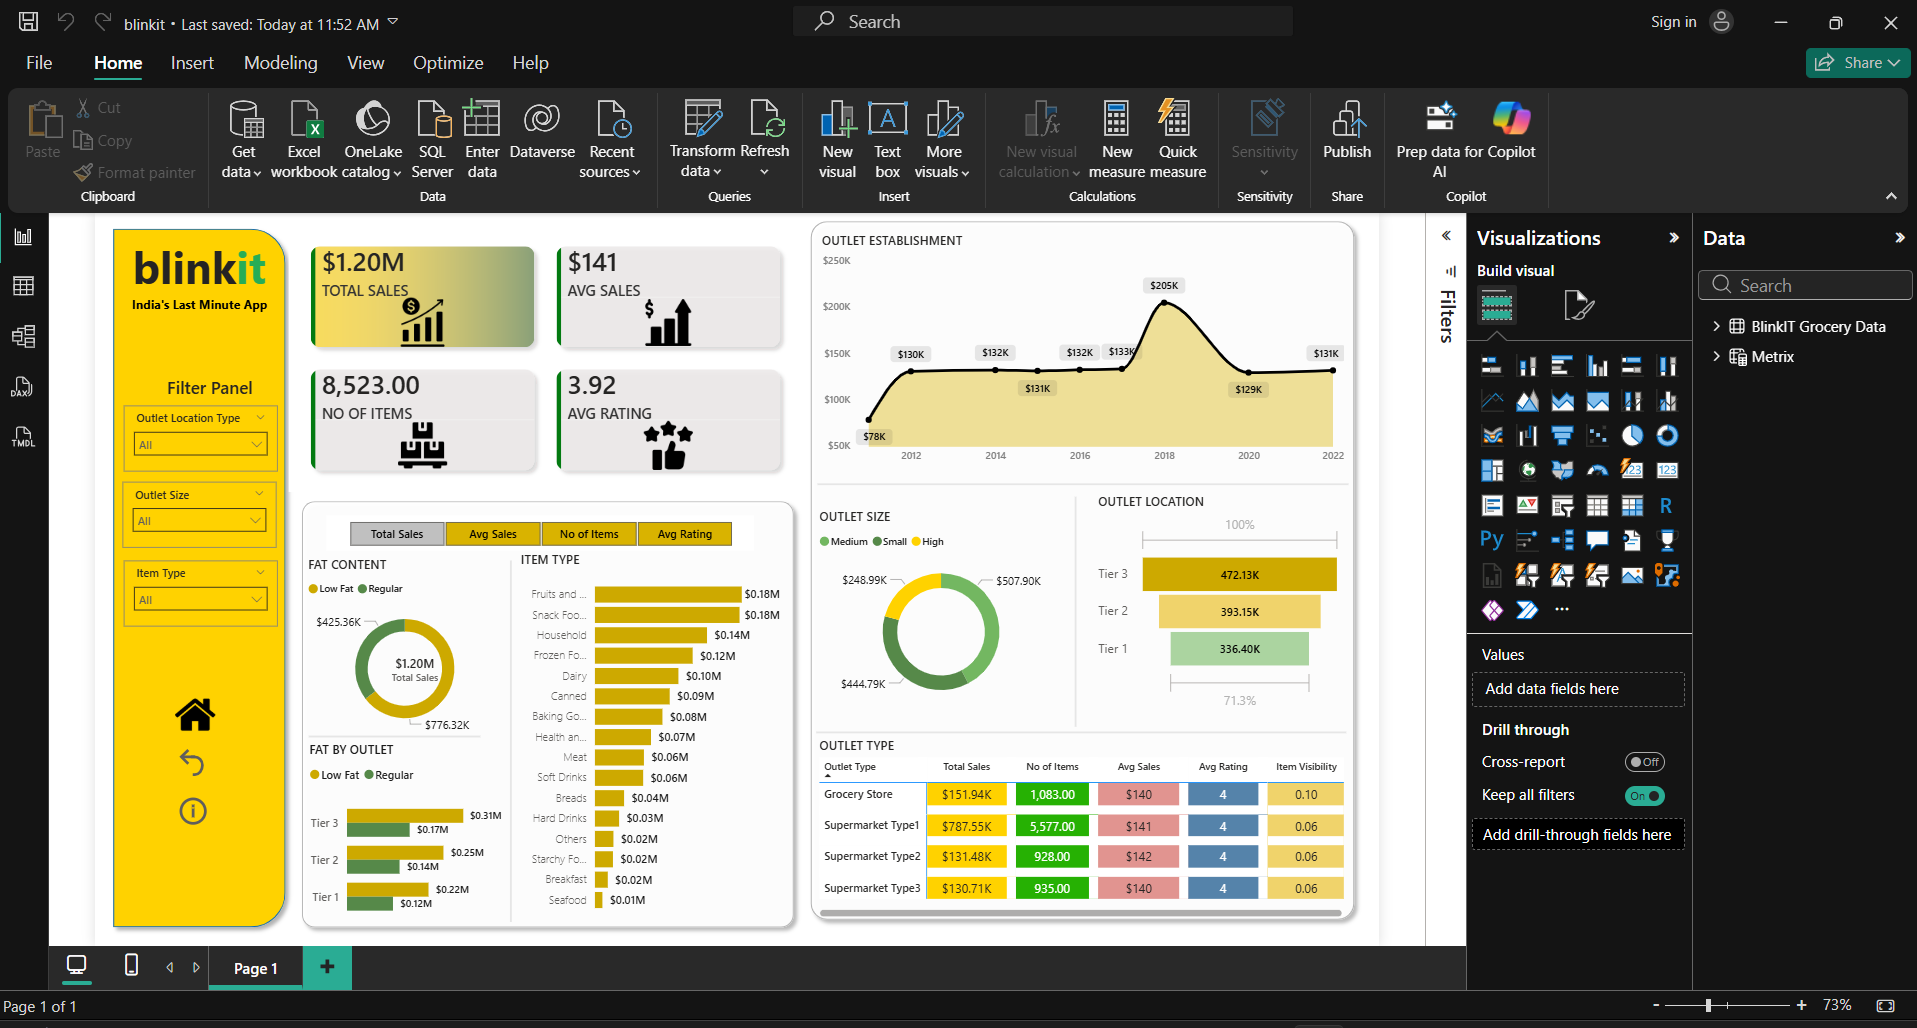

What the dashboard file says about the page in this screenshot:
{"tool":"powerbi","page":{"name":"Page 1","canvas":[1400,800],"ordinal":0},"visuals":[{"type":"shape","box":[10.9,8.2,205.9,779.8],"z":0},{"type":"textbox","box":[262.9,688.6,255.7,100],"z":1000},{"type":"textbox","box":[262.9,580,255.7,128.6],"z":2000},{"type":"textbox","box":[24.3,20,178.6,75.7],"z":3000},{"type":"textbox","box":[31.4,85.7,165.7,40],"z":4000},{"type":"cardVisual","fields":{"Data":["BlinkIT Grocery Data.Total Sales","BlinkIT Grocery Data.Avg Sales","BlinkIT Grocery Data.No of Items","BlinkIT Grocery Data.Avg Rating"]},"box":[211.3,12.3,560.3,293.1],"z":5000},{"type":"shape","box":[217.1,305.7,554.3,482.9],"z":6000},{"type":"donutChart","title":"FAT CONTENT","fields":{"Y":["BlinkIT Grocery Data.Total Sales"],"Category":["BlinkIT Grocery Data.Item Fat Content"]},"box":[227.7,373.6,220.9,201.8],"z":7000},{"type":"slicer","fields":{"Values":["Metrix.Metrix"]},"box":[251.7,330,466.7,38.3],"z":8000},{"type":"cardVisual","fields":{"Data":["BlinkIT Grocery Data.Total Sales"]},"box":[305.4,470.4,87.3,53.2],"z":9000},{"type":"clusteredBarChart","title":"FAT BY OUTLET","fields":{"Y":["BlinkIT Grocery Data.Total Sales"],"Category":["BlinkIT Grocery Data.Outlet Location Type"],"Series":["BlinkIT Grocery Data.Item Fat Content"]},"box":[229,575.3,219.5,208.6],"z":10000},{"type":"shape","box":[232.9,561.4,187.1,18.6],"z":11000},{"type":"shape","box":[447.1,378.6,12.9,394.3],"z":12000},{"type":"barChart","title":"ITEM TYPE","fields":{"Y":["BlinkIT Grocery Data.Total Sales"],"Category":["BlinkIT Grocery Data.Item Type"]},"box":[460,368.6,292.9,404.3],"z":13000},{"type":"shape","box":[771.6,0,610.8,779.8],"z":14000},{"type":"lineChart","title":"OUTLET ESTABLISHMENT","fields":{"Y":["BlinkIT Grocery Data.Total Sales"],"Category":["BlinkIT Grocery Data.Outlet Establishment Year"]},"box":[788,20.5,579.4,261.8],"z":15000},{"type":"shape","box":[788,286.3,579.4,19.1],"z":16000},{"type":"donutChart","title":"OUTLET SIZE","fields":{"Y":["BlinkIT Grocery Data.Total Sales"],"Category":["BlinkIT Grocery Data.Outlet Size"]},"box":[785.3,321.7,275.4,225],"z":17000},{"type":"shape","box":[1063.4,309.5,12.3,250.9],"z":18000},{"type":"funnel","title":"OUTLET LOCATION","fields":{"Y":["Sum(BlinkIT Grocery Data.Sales)"],"Category":["BlinkIT Grocery Data.Outlet Location Type"]},"box":[1089.3,305.4,275.4,241.3],"z":19000},{"type":"shape","box":[786.6,557.6,578.1,17.7],"z":20000},{"type":"pivotTable","title":"OUTLET TYPE","fields":{"Values":["BlinkIT Grocery Data.Total Sales","BlinkIT Grocery Data.No of Items","BlinkIT Grocery Data.Avg Sales","BlinkIT Grocery Data.Avg Rating","Avg(BlinkIT Grocery Data.Item Visibility)"],"Rows":["BlinkIT Grocery Data.Outlet Type"]},"box":[785.3,571.2,582.1,201.8],"z":21000},{"type":"slicer","fields":{"Values":["BlinkIT Grocery Data.Outlet Location Type"]},"box":[31.4,210,167.7,72.3],"z":22000},{"type":"slicer","fields":{"Values":["BlinkIT Grocery Data.Outlet Size"]},"box":[30,293.1,167.7,72.3],"z":23000},{"type":"slicer","fields":{"Values":["BlinkIT Grocery Data.Item Type"]},"box":[31.4,379,167.7,72.3],"z":24000},{"type":"textbox","box":[73.6,173.1,113.2,36.8],"z":25000},{"type":"actionButton","box":[85.2,579.8,45.7,39.6],"z":26000},{"type":"image","box":[86.7,523.5,44.1,47.2],"z":27000},{"type":"actionButton","box":[86.7,633,44.1,39.6],"z":28000}]}

Visuals, with their boxes on the page's 1400x800 design canvas (x1, y1, x2, y2). These are canvas units, not pixel positions in the 1917x1028 screenshot, which may show the page scaled, cropped or inside an application window:
shape: {"left": 11, "top": 8, "right": 217, "bottom": 788}
textbox: {"left": 263, "top": 689, "right": 519, "bottom": 789}
textbox: {"left": 263, "top": 580, "right": 519, "bottom": 709}
textbox: {"left": 24, "top": 20, "right": 203, "bottom": 96}
textbox: {"left": 31, "top": 86, "right": 197, "bottom": 126}
cardVisual - BlinkIT Grocery Data.Total Sales x BlinkIT Grocery Data.Avg Sales: {"left": 211, "top": 12, "right": 772, "bottom": 305}
shape: {"left": 217, "top": 306, "right": 771, "bottom": 789}
"FAT CONTENT" donutChart: {"left": 228, "top": 374, "right": 449, "bottom": 575}
slicer - Metrix.Metrix: {"left": 252, "top": 330, "right": 718, "bottom": 368}
cardVisual - BlinkIT Grocery Data.Total Sales: {"left": 305, "top": 470, "right": 393, "bottom": 524}
"FAT BY OUTLET" clusteredBarChart: {"left": 229, "top": 575, "right": 448, "bottom": 784}
shape: {"left": 233, "top": 561, "right": 420, "bottom": 580}
shape: {"left": 447, "top": 379, "right": 460, "bottom": 773}
"ITEM TYPE" barChart: {"left": 460, "top": 369, "right": 753, "bottom": 773}
shape: {"left": 772, "top": 0, "right": 1382, "bottom": 780}
"OUTLET ESTABLISHMENT" lineChart: {"left": 788, "top": 20, "right": 1367, "bottom": 282}
shape: {"left": 788, "top": 286, "right": 1367, "bottom": 305}
"OUTLET SIZE" donutChart: {"left": 785, "top": 322, "right": 1061, "bottom": 547}
shape: {"left": 1063, "top": 310, "right": 1076, "bottom": 560}
"OUTLET LOCATION" funnel: {"left": 1089, "top": 305, "right": 1365, "bottom": 547}
shape: {"left": 787, "top": 558, "right": 1365, "bottom": 575}
"OUTLET TYPE" pivotTable: {"left": 785, "top": 571, "right": 1367, "bottom": 773}
slicer - BlinkIT Grocery Data.Outlet Location Type: {"left": 31, "top": 210, "right": 199, "bottom": 282}
slicer - BlinkIT Grocery Data.Outlet Size: {"left": 30, "top": 293, "right": 198, "bottom": 365}
slicer - BlinkIT Grocery Data.Item Type: {"left": 31, "top": 379, "right": 199, "bottom": 451}
textbox: {"left": 74, "top": 173, "right": 187, "bottom": 210}
actionButton: {"left": 85, "top": 580, "right": 131, "bottom": 619}
image: {"left": 87, "top": 524, "right": 131, "bottom": 571}
actionButton: {"left": 87, "top": 633, "right": 131, "bottom": 673}
